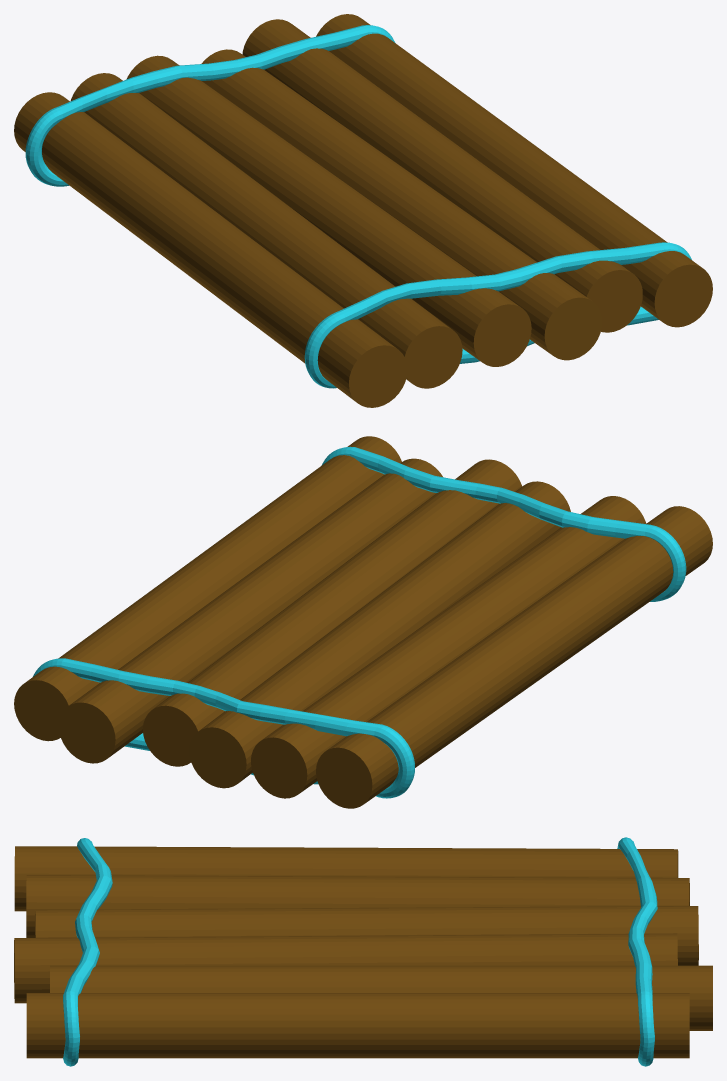
File: PlayerBoat.fbx
3 views of the same model, one above another, from view 1: azimuth 30°, elevation 25°; view 2: azimuth 150°, elevation 25°; view 3: azimuth 270°, elevation 25° (orthographic). The views are drawn at different scales.
Visible parts, largest first — view 1: Cylinder.005, Cylinder.003, Cylinder, Cylinder.004, Cylinder.002, Cylinder.001, Torus, Torus.001; view 2: Cylinder.005, Cylinder, Cylinder.003, Cylinder.004, Cylinder.002, Cylinder.001, Torus.001, Torus; view 3: Cylinder.001, Cylinder.004, Cylinder.002, Cylinder.005, Cylinder.003, Cylinder, Torus, Torus.001.
Part boxes in pixels (box(x1,y1,x2,y2)): Cylinder.005: box(14, 92, 407, 407); Cylinder.003: box(126, 55, 531, 366); Cylinder: box(242, 19, 642, 332); Cylinder.004: box(70, 73, 462, 388); Cylinder.002: box(201, 49, 602, 360); Cylinder.001: box(316, 14, 712, 327); Torus: box(304, 242, 691, 388); Torus.001: box(25, 25, 395, 186); Cylinder.005: box(316, 506, 712, 808); Cylinder: box(58, 458, 442, 763); Cylinder.003: box(189, 481, 570, 788); Cylinder.004: box(251, 496, 646, 798); Cylinder.002: box(143, 459, 521, 766); Cylinder.001: box(14, 436, 401, 741); Torus.001: box(33, 658, 414, 798); Torus: box(321, 446, 686, 601); Cylinder.001: box(26, 993, 689, 1058); Cylinder.004: box(26, 875, 689, 937); Cylinder.002: box(14, 933, 677, 1003); Cylinder.005: box(14, 846, 678, 911); Cylinder.003: box(35, 906, 698, 965); Cylinder: box(50, 965, 712, 1030); Torus: box(63, 838, 112, 1066); Torus.001: box(617, 837, 657, 1066).
Bounding box in the file's own units: 1309 × 261 × 2141.
